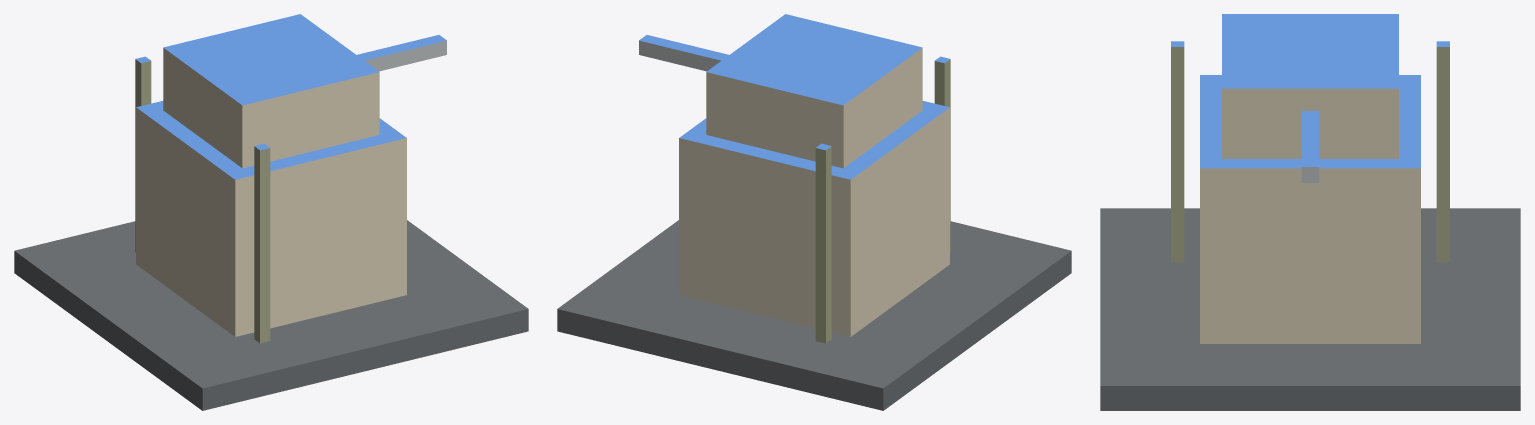
Rendered from meridian_decoy_emplacement.glb.
3 renders of one model, left to right at view 1: azimuth 30°, elevation 25°; view 2: azimuth 150°, elevation 25°; view 3: azimuth 270°, elevation 25°, orthographic. The views are drawn at different scales.
Parts seen in each view (by area): view 1: hull, turret, barrel; view 2: hull, turret, barrel; view 3: hull, turret, barrel.
Boxes of the visible parts, <box> form: hull: <box>14,56,528,410</box>; turret: <box>163,14,379,168</box>; barrel: <box>357,35,446,71</box>; hull: <box>557,56,1071,410</box>; turret: <box>706,14,922,168</box>; barrel: <box>639,35,728,71</box>; hull: <box>1100,41,1520,410</box>; turret: <box>1222,14,1398,158</box>; barrel: <box>1301,111,1319,182</box>.
Size of the model in its own units: 3.9 by 2.7 by 3.8.
